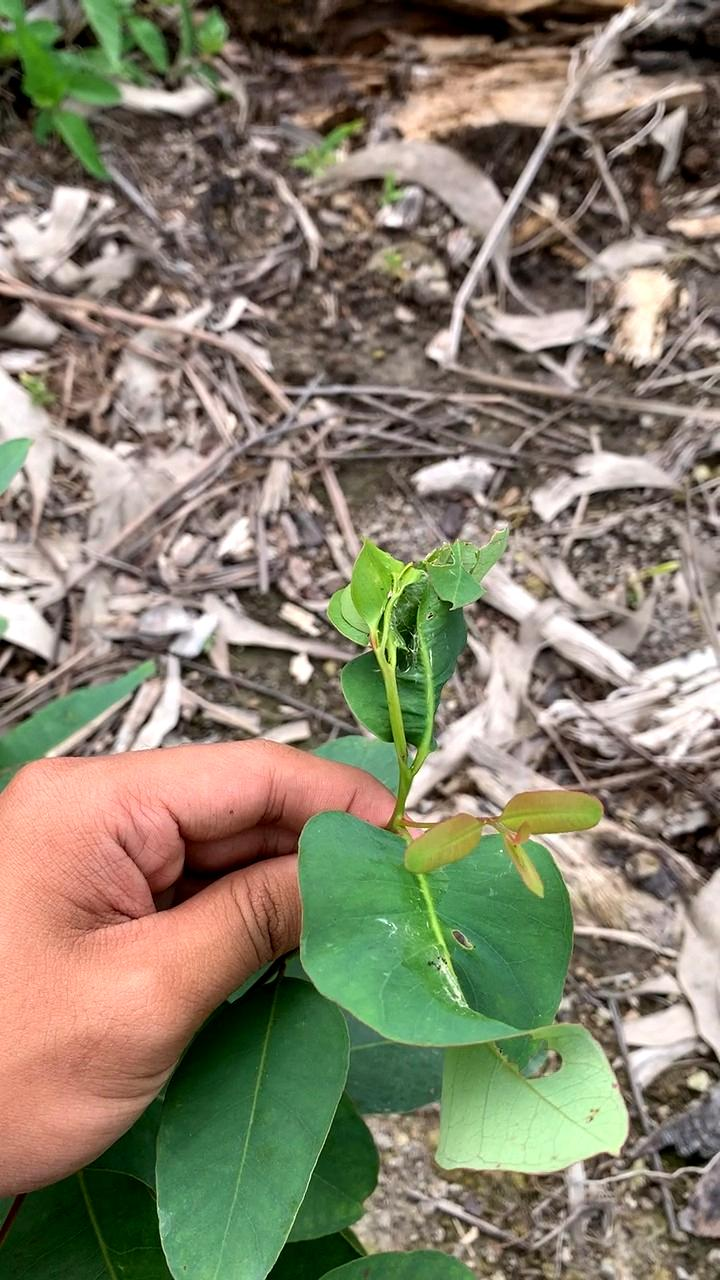Leaf Roller - Leaf: (325, 533, 501, 777)
